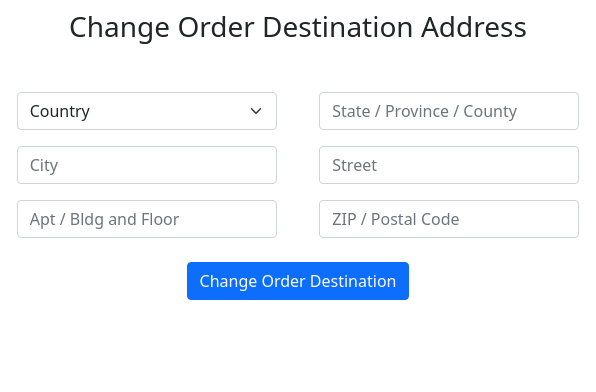
Test: Testing EditOrderDestination component › Testing the component whwn all input fields are empty
clicking 'Change order destination' button
Click the button "Change Order Destination": click(298, 281) [186, 262, 409, 300]
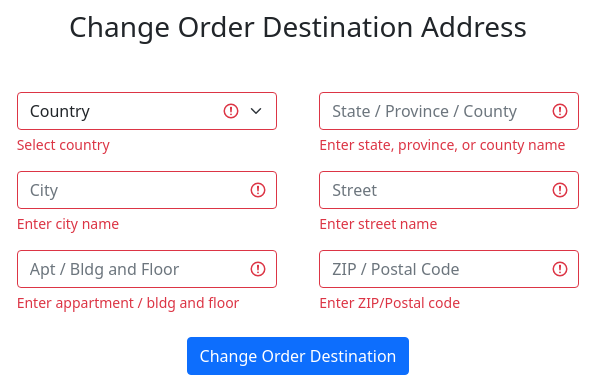
expect the text "Select country" is shown: met, box [17, 135, 110, 154]
expect the text "Enter state, province, or county name" is shown: met, box [319, 134, 579, 155]
expect the text "Enter city name" is shown: met, box [17, 214, 119, 233]
